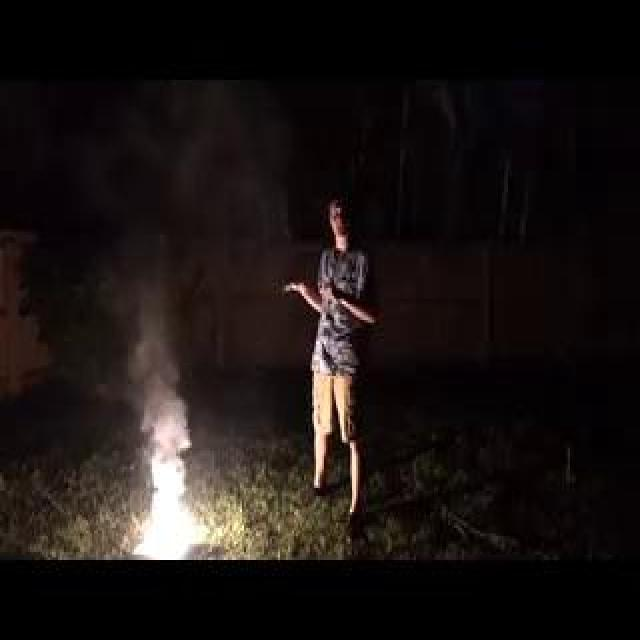fire: (138, 508, 198, 559)
